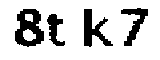7: (119, 5, 152, 56)
8: (12, 4, 44, 54)
k: (78, 3, 115, 52)
t: (44, 10, 71, 50)
